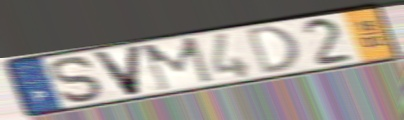2: (302, 15, 356, 68)
4: (212, 30, 253, 80)
D: (243, 23, 303, 78)
M: (139, 35, 216, 93)
S: (49, 54, 108, 105)
V: (89, 43, 146, 98)
